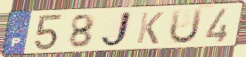4: (203, 7, 230, 43)
5: (33, 14, 64, 51)
8: (68, 13, 98, 49)
J: (99, 10, 134, 49)
K: (135, 11, 166, 46)
U: (167, 7, 205, 46)
